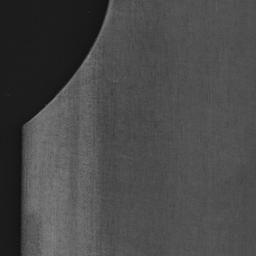Crescent gap: (24, 0, 109, 125)
